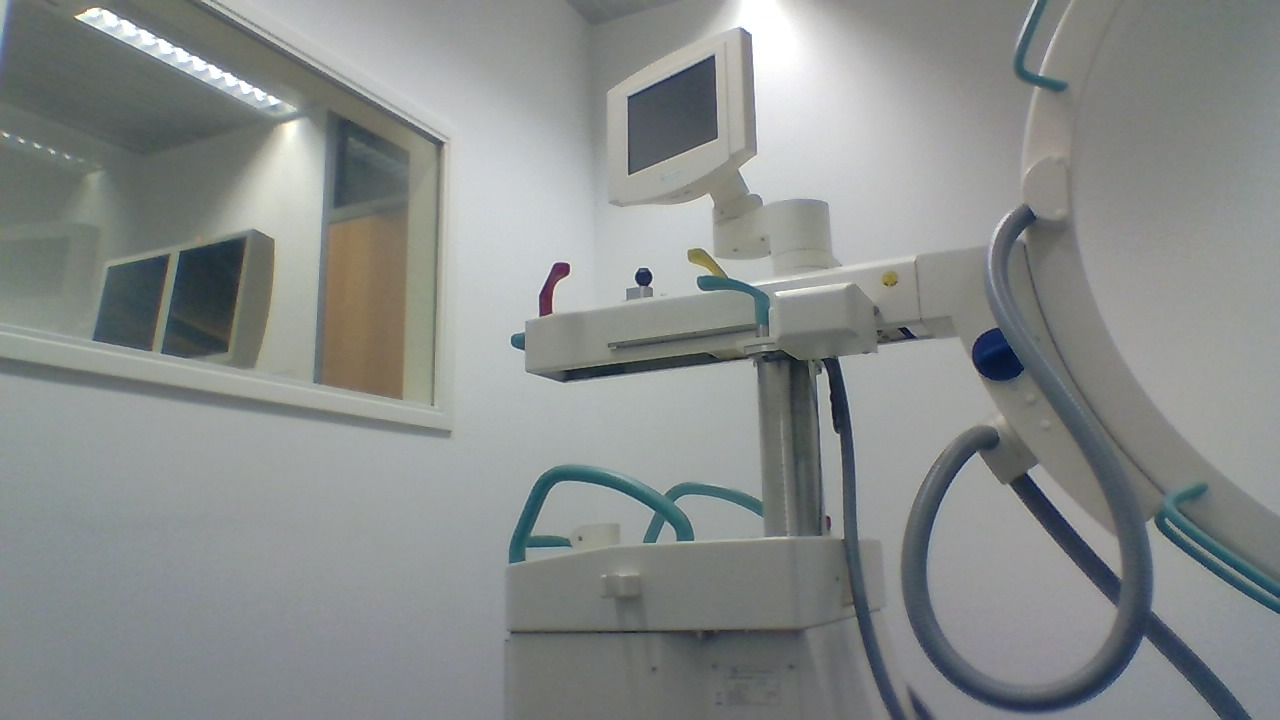carmBACK: (516, 522, 623, 563)
carmLOCK: (971, 322, 1034, 382)
carmSCREEN: (604, 26, 758, 207)
